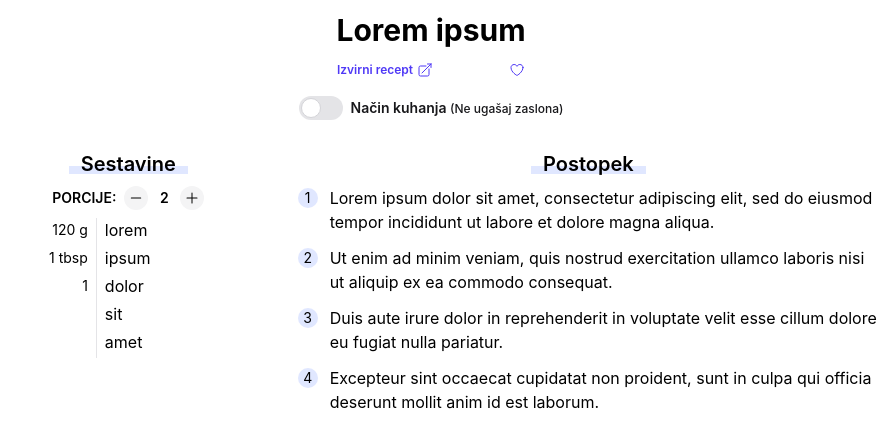
Test case: Recipe › items in Slovenian language › displays updated amount of ingredients when servings are changed
Expected: the field labelled "Porcije:" holds "2", [156, 188, 172, 208]
Expected: the row "120 g lorem" is shown, [16, 218, 240, 246]
Click the button named "Povečaj porcije": x=192, y=198 [180, 186, 204, 210]
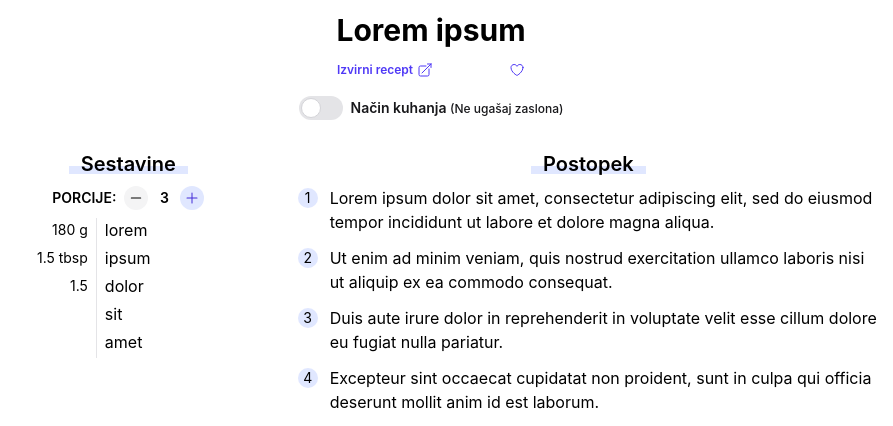
Expected: the field labelled "Porcije:" holds "3", [156, 188, 172, 208]
Expected: the row "180 g lorem" is shown, [16, 218, 240, 246]
Click the button named "Zmanjšaj porcije": x=136, y=198 [124, 186, 148, 210]
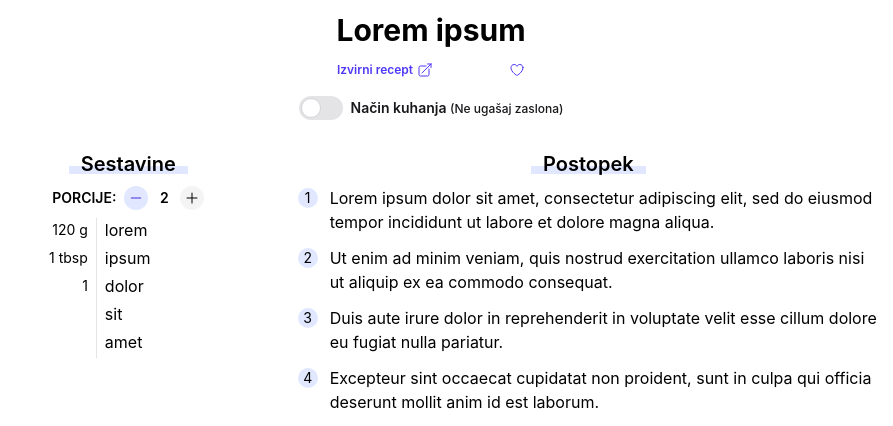
Click the button named "Zmanjšaj porcije": x=136, y=198 [124, 186, 148, 210]
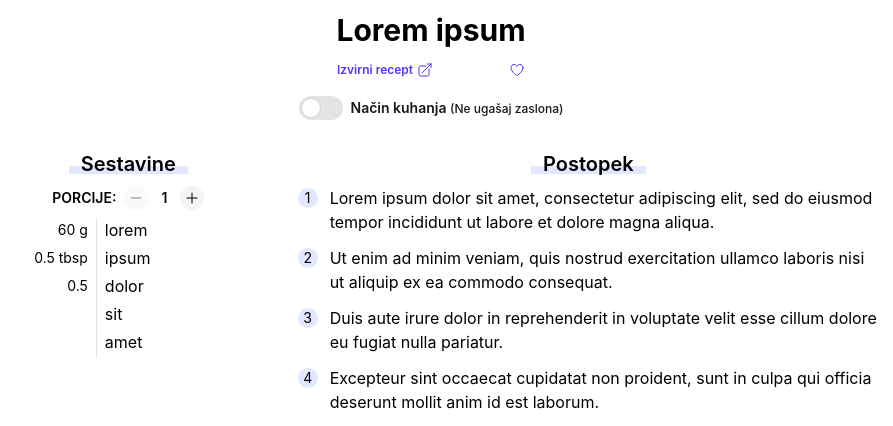
Expected: the field labelled "Porcije:" holds "1", [156, 188, 172, 208]
Expected: the row "60 g lorem" is shown, [16, 218, 240, 246]
